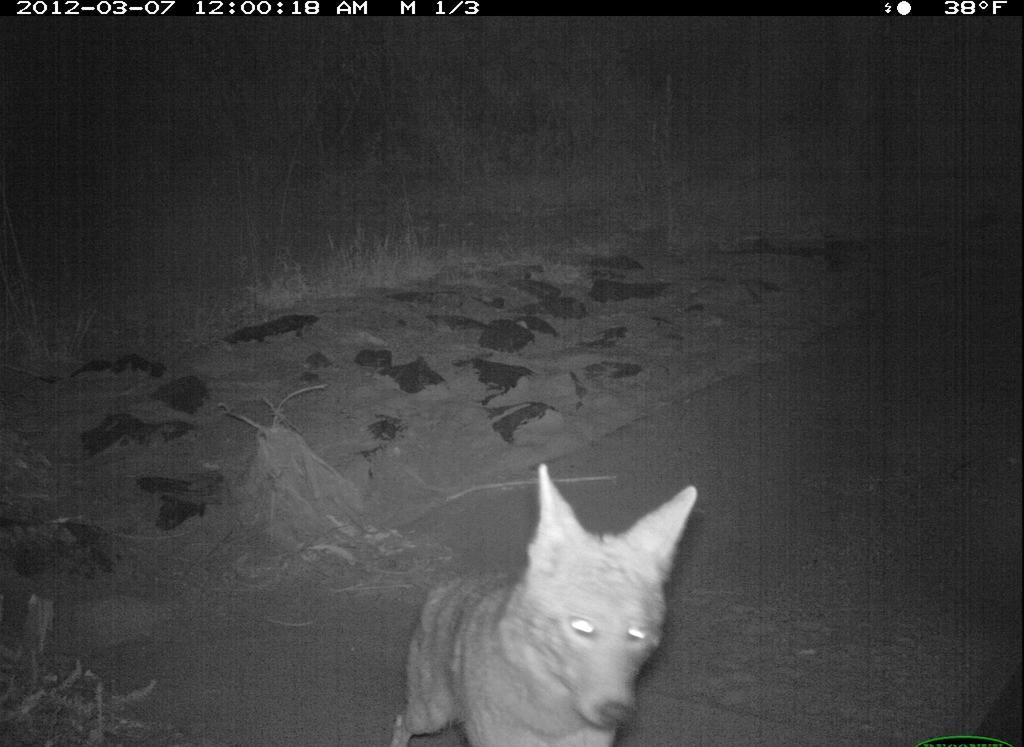coyote: (387, 460, 702, 739)
